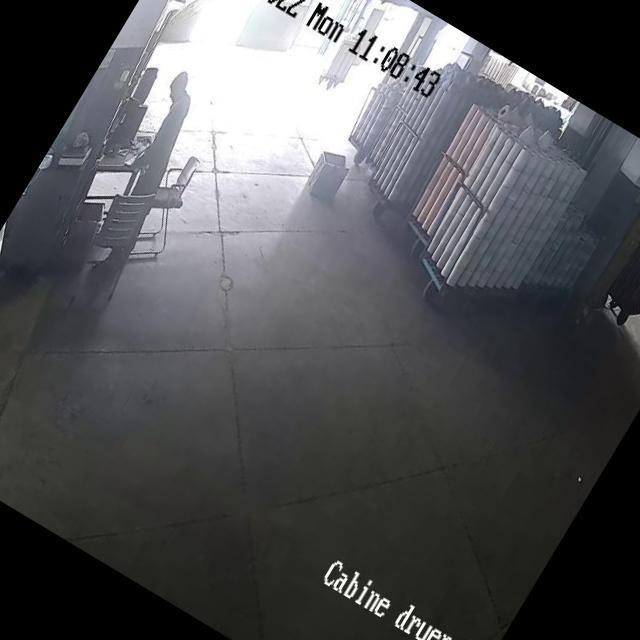person: (111, 75, 216, 207)
